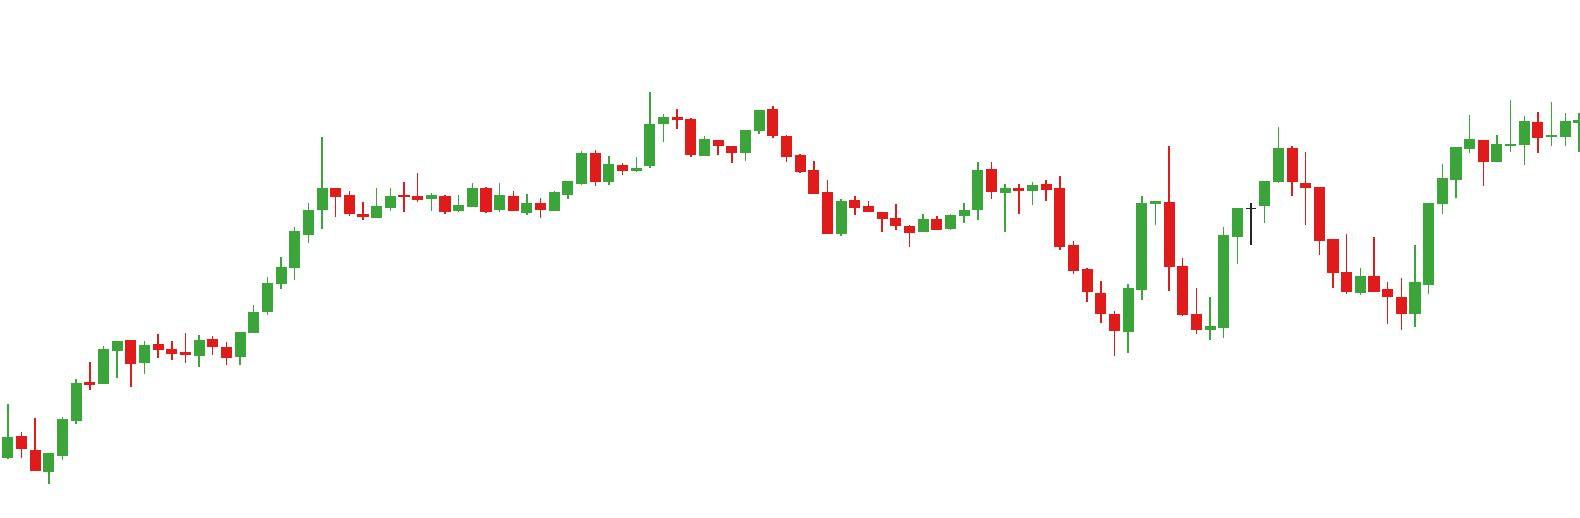sell: (1162, 126, 1299, 254)
